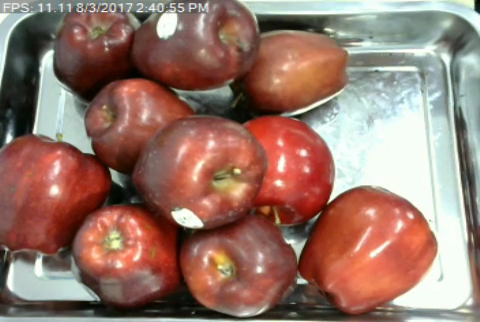Apple: (295, 181, 441, 318), (131, 113, 270, 232), (0, 132, 114, 258), (174, 209, 301, 322), (67, 201, 184, 312), (125, 0, 262, 93), (82, 74, 199, 179), (236, 112, 337, 229), (234, 26, 353, 118), (52, 1, 147, 103)
